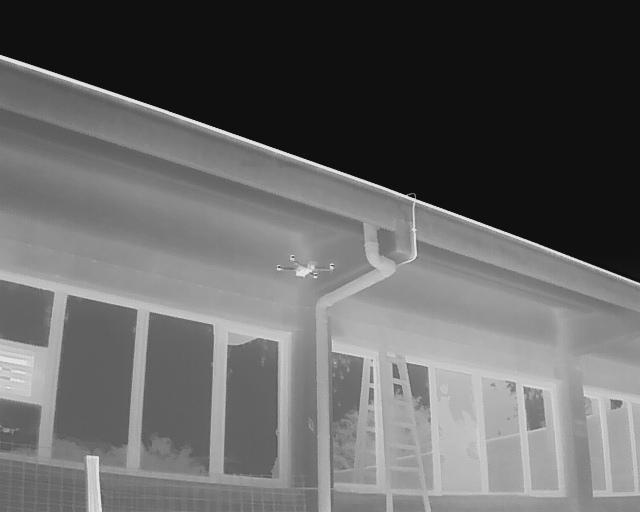drone: (271, 248, 338, 287)
